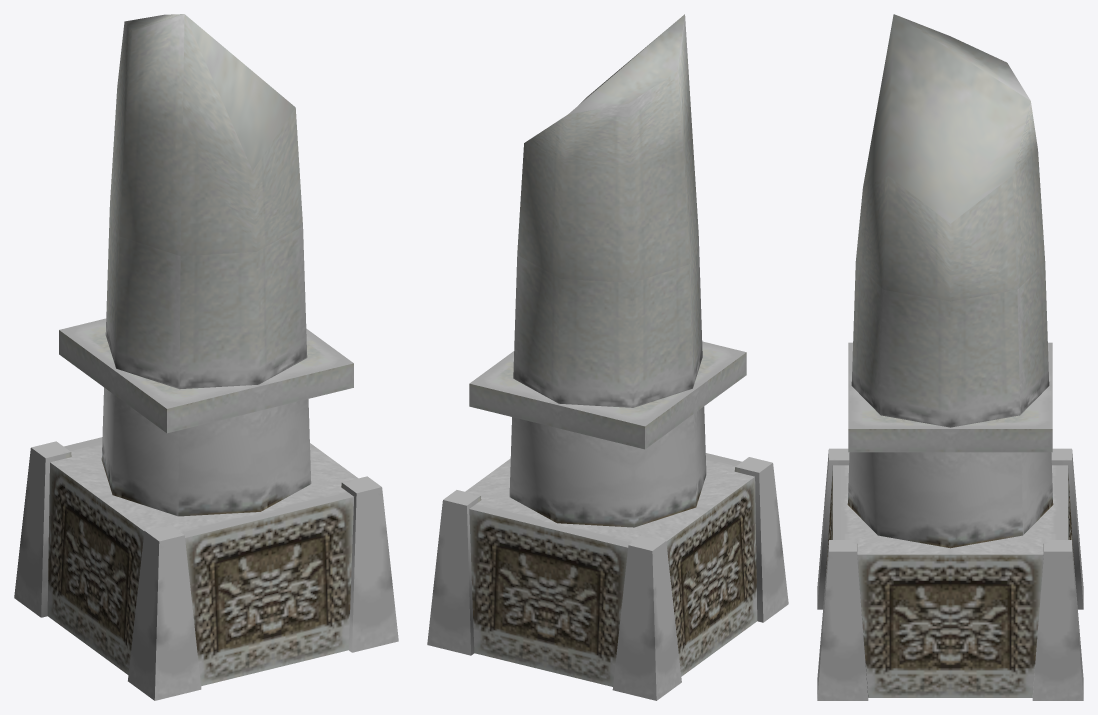
Rendered from general_obj_bigtower05.fbx.
The picture shows the model from 3 angles, left to right: view 1: azimuth 30°, elevation 25°; view 2: azimuth 150°, elevation 25°; view 3: azimuth 270°, elevation 25°; orthographic projection. The views are drawn at different scales.
Visible parts, largest first — view 1: Sphere01; view 2: Sphere01; view 3: Sphere01.
Boxes of the visible parts, box(x1,y1,x2,y2) form: Sphere01: box(14, 14, 398, 700); Sphere01: box(427, 14, 788, 700); Sphere01: box(817, 14, 1083, 700).
Size of the model in its own units: 5.22 by 13.09 by 5.21.
